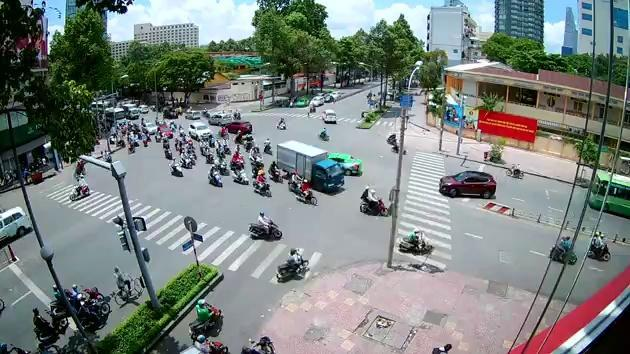xe buyt: (587, 169, 630, 217)
xe dap: (113, 263, 143, 305)
xe hoi: (436, 170, 497, 199), (0, 204, 32, 243), (327, 151, 362, 174), (186, 120, 211, 137), (226, 120, 252, 135)
xe may: (274, 247, 308, 282), (246, 209, 282, 240), (397, 226, 434, 254), (358, 184, 389, 217), (548, 234, 577, 263), (586, 231, 611, 262), (66, 174, 90, 200), (251, 170, 270, 197), (206, 163, 223, 186), (167, 156, 182, 177)
xe tai: (276, 138, 345, 192)
